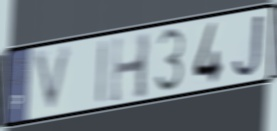3: (153, 25, 186, 95)
4: (193, 19, 224, 86)
H: (108, 30, 152, 107)
I: (95, 37, 109, 107)
J: (230, 12, 266, 81)
V: (31, 41, 75, 118)
